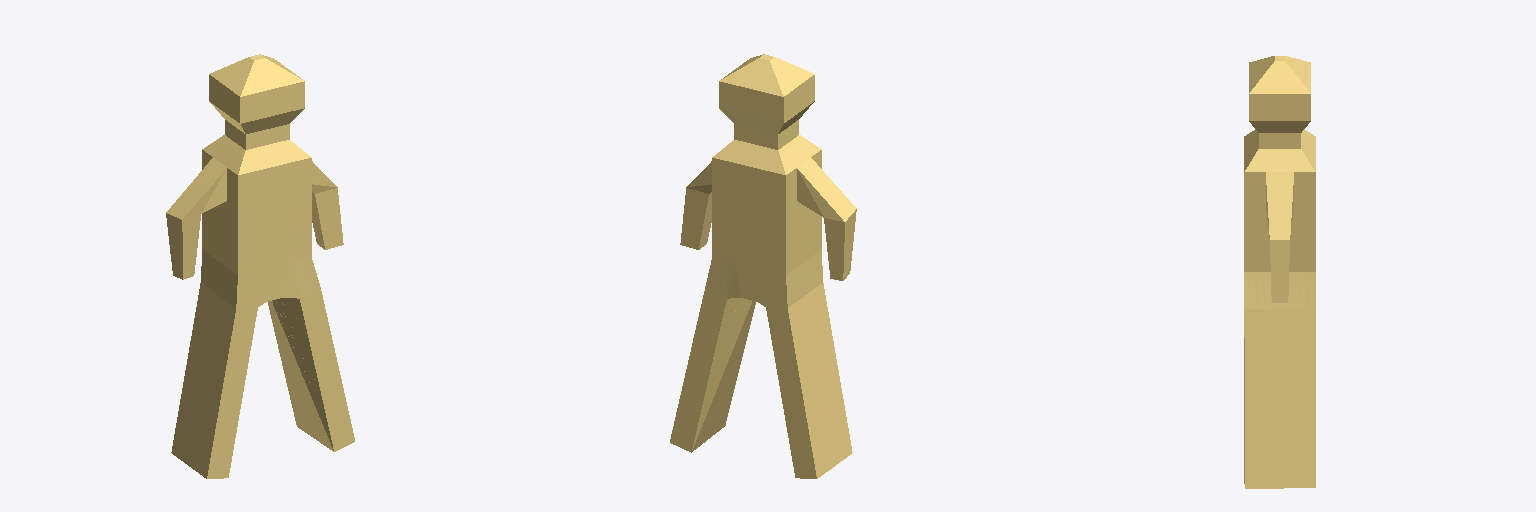
The model's file is Human.obj.
The picture shows the model from 3 angles: view 1: azimuth 30°, elevation 25°; view 2: azimuth 150°, elevation 25°; view 3: azimuth 270°, elevation 25°; orthographic projection.
Visible parts, largest first — view 1: pCube1; view 2: pCube1; view 3: pCube1.
Part boxes in pixels (x1,y1,x2,y2): pCube1: (166, 54, 354, 478); pCube1: (670, 54, 856, 478); pCube1: (1244, 56, 1315, 488).
Size of the model in its own units: 1.06 by 2.4 by 0.3995.